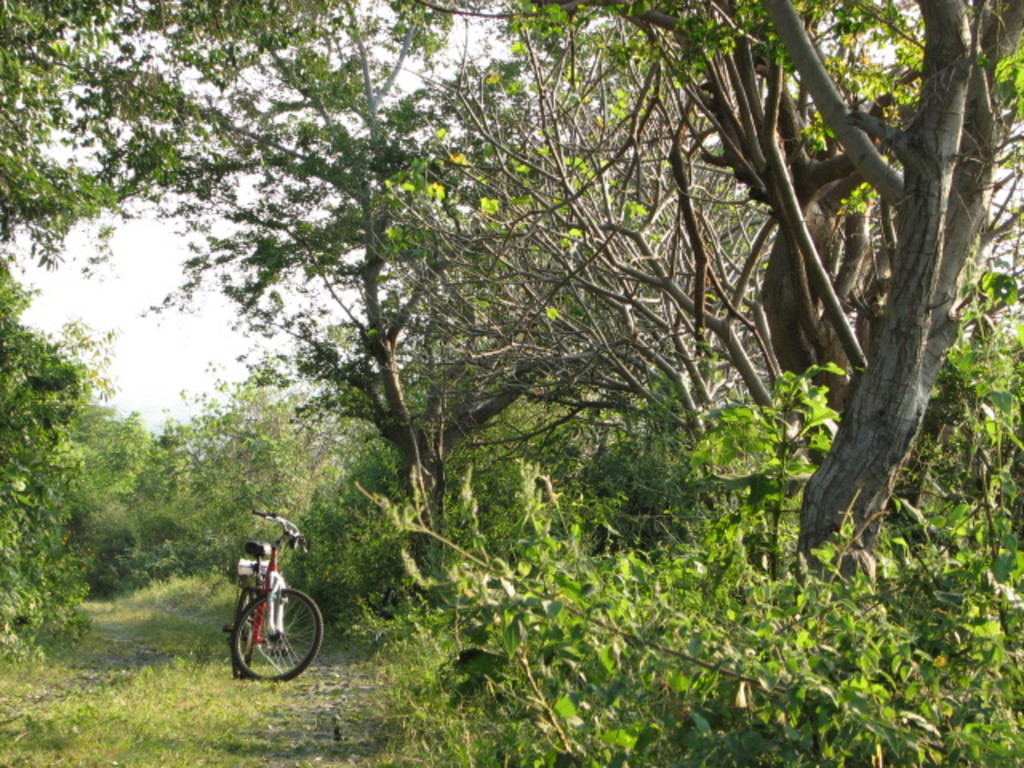bicycle: (222, 522, 323, 684)
